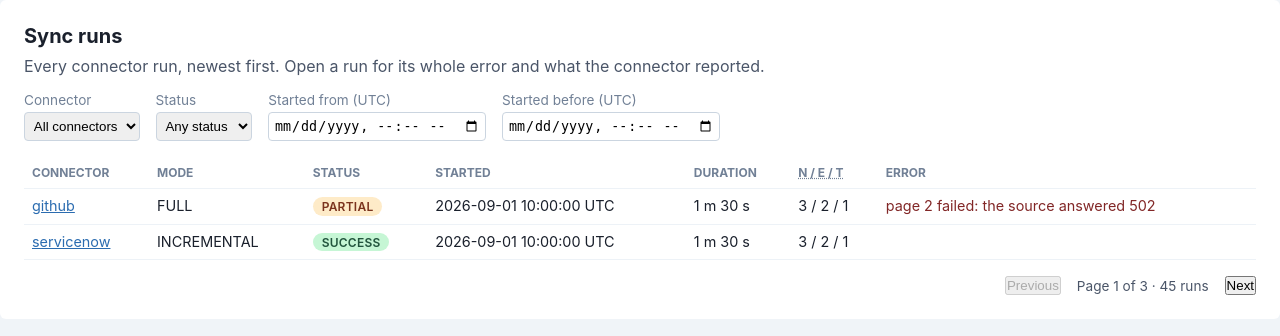
Test: SyncRunsView › pages through the history, and says where it is
Expected: the text with test id "page-status" reads "Page 1 of 3 · 45 runs", [1077, 278, 1209, 294]
Expected: the button with test id "previous-page" is disabled, [1005, 276, 1061, 295]
Click the button with test id "next-page": coordinates (1240, 286) [1225, 276, 1256, 295]
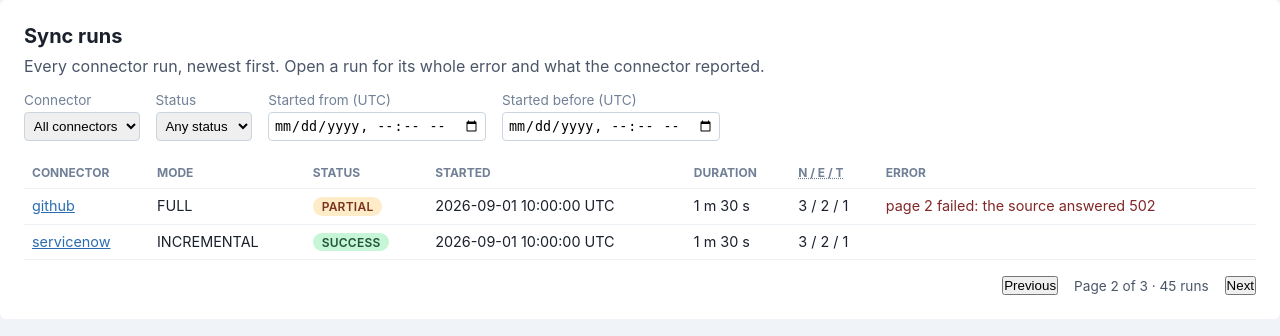
Now the text with test id "page-status" reads "Page 2 of 3 · 45 runs", box [1074, 278, 1209, 294]
